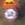limite 30: (2, 6, 18, 21)
